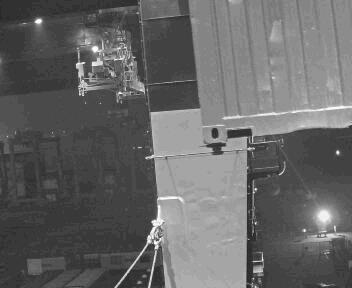twist_lock_1: (191, 140, 214, 158)
